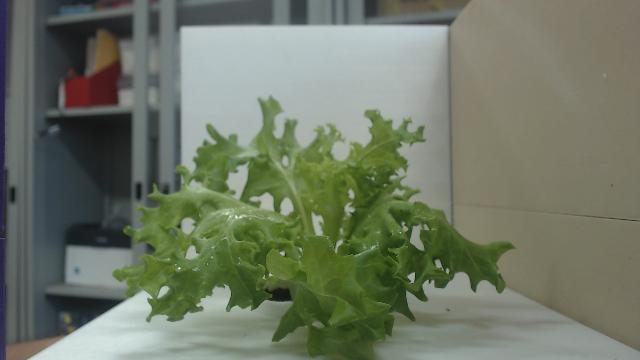Harvest Stage: (111, 92, 517, 360)
